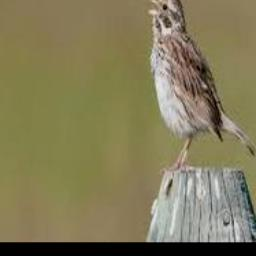Sparrow: (145, 0, 256, 169)
